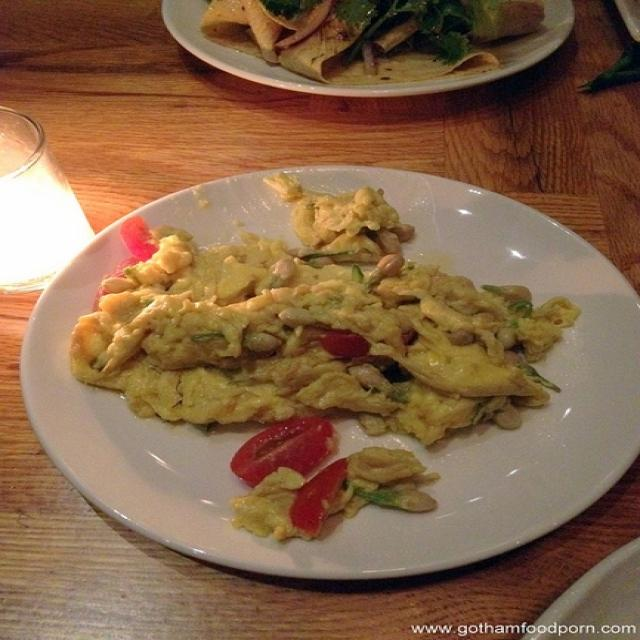鸡蛋料理: (43, 160, 619, 559)
